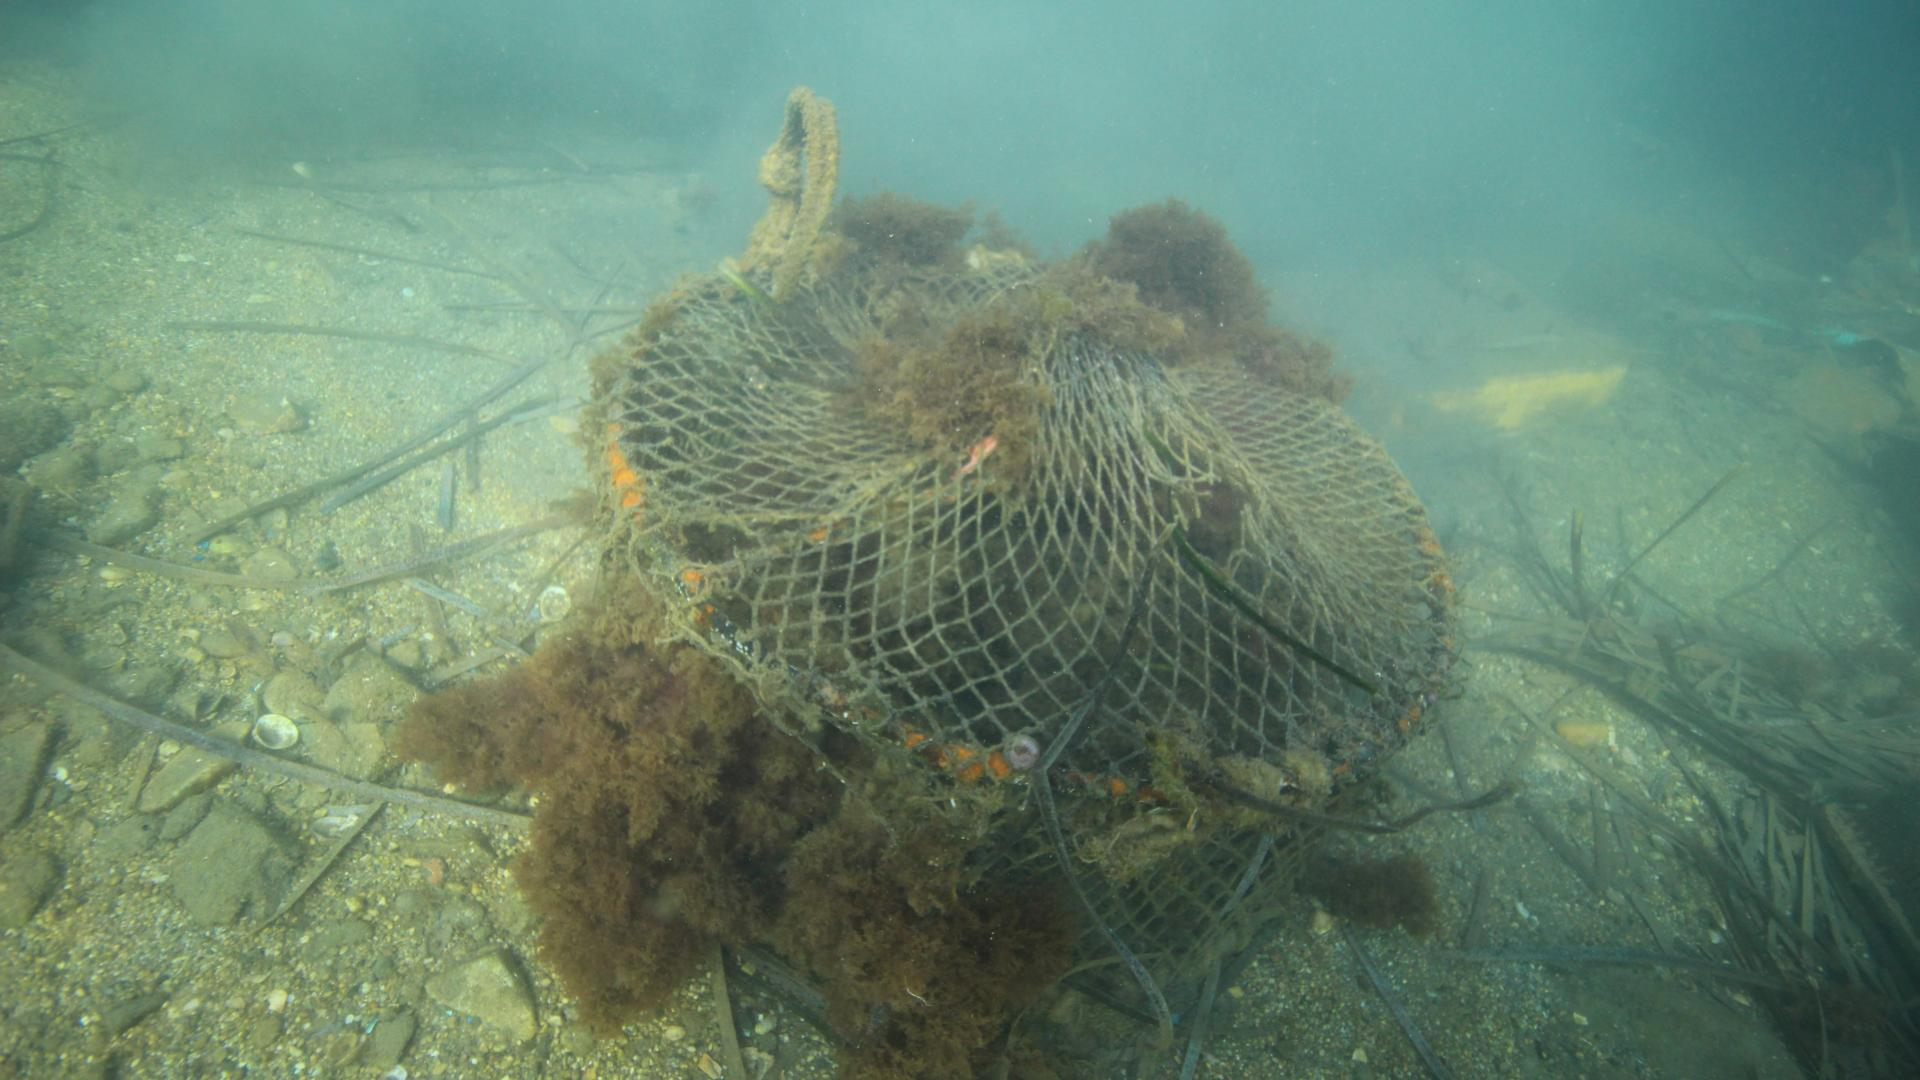bundle of ropes: (757, 82, 843, 299)
circular fish trap: (600, 240, 1457, 985)
